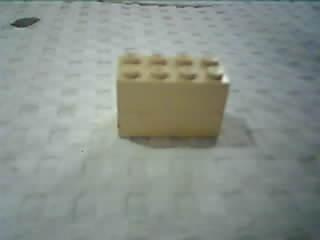lego: (112, 49, 232, 144)
